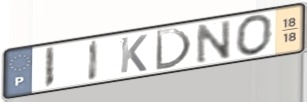D: (153, 27, 194, 72)
I: (42, 45, 56, 90), (87, 38, 101, 83)
K: (119, 32, 149, 75)
N: (194, 18, 233, 66)
O: (234, 12, 275, 58)
